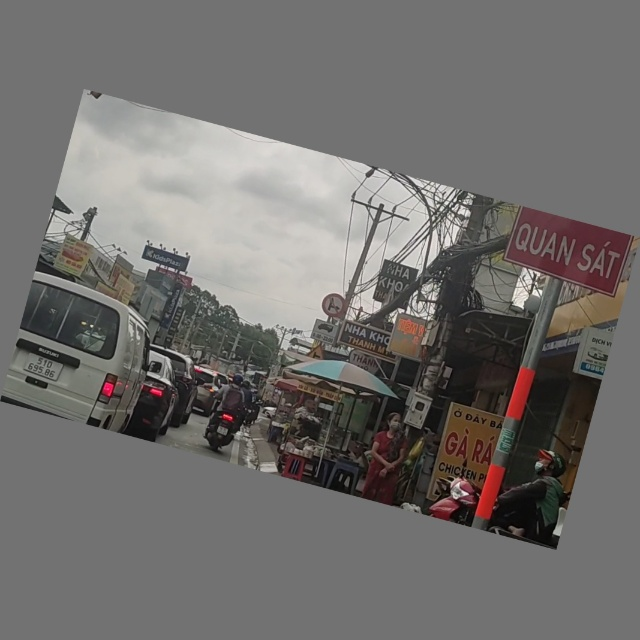P.139: (318, 291, 349, 322)
S.505a*Xe tai: (310, 318, 342, 346)
W.205b: (301, 343, 332, 366)
